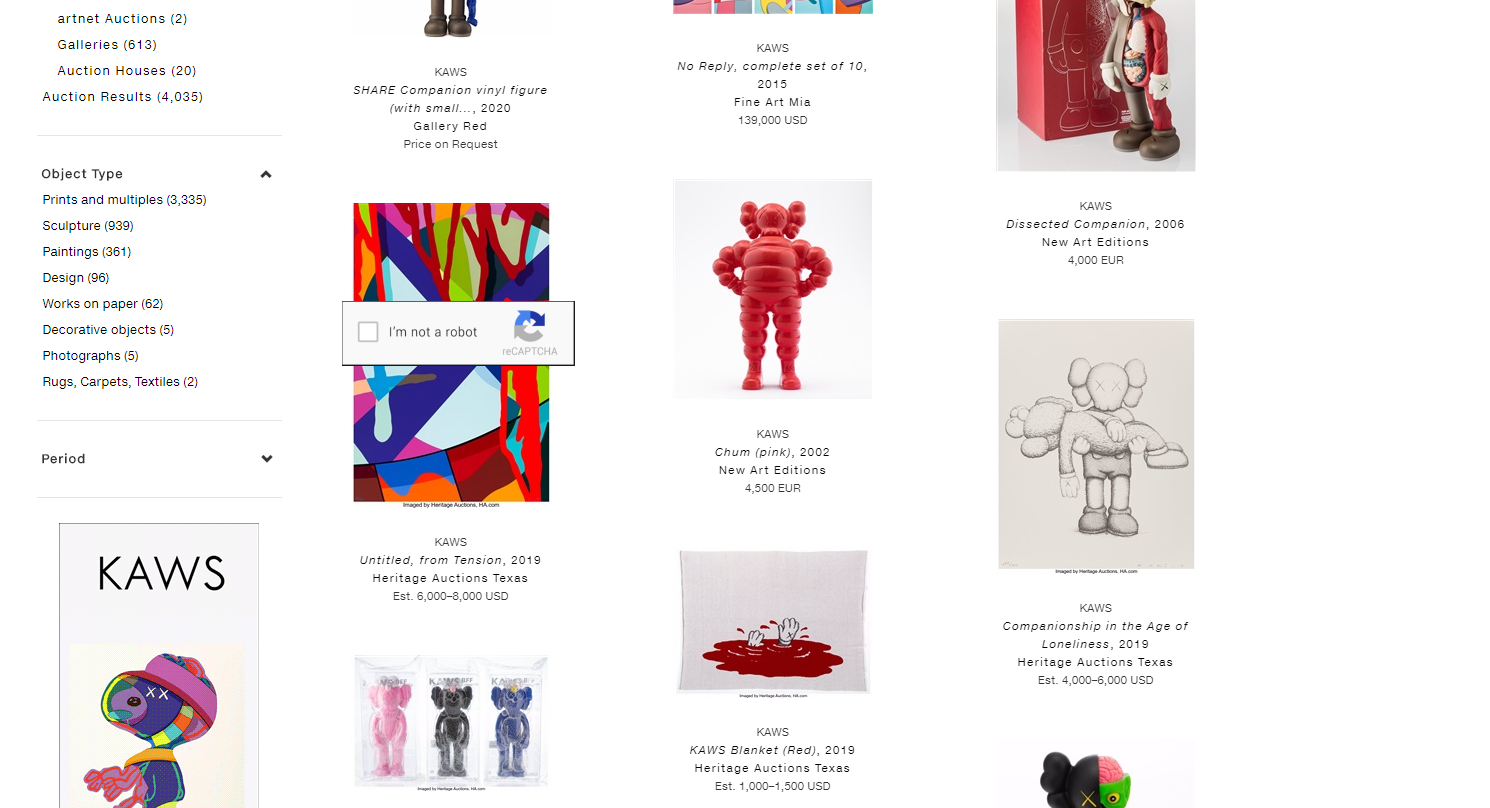captcha: (332, 297, 582, 375)
